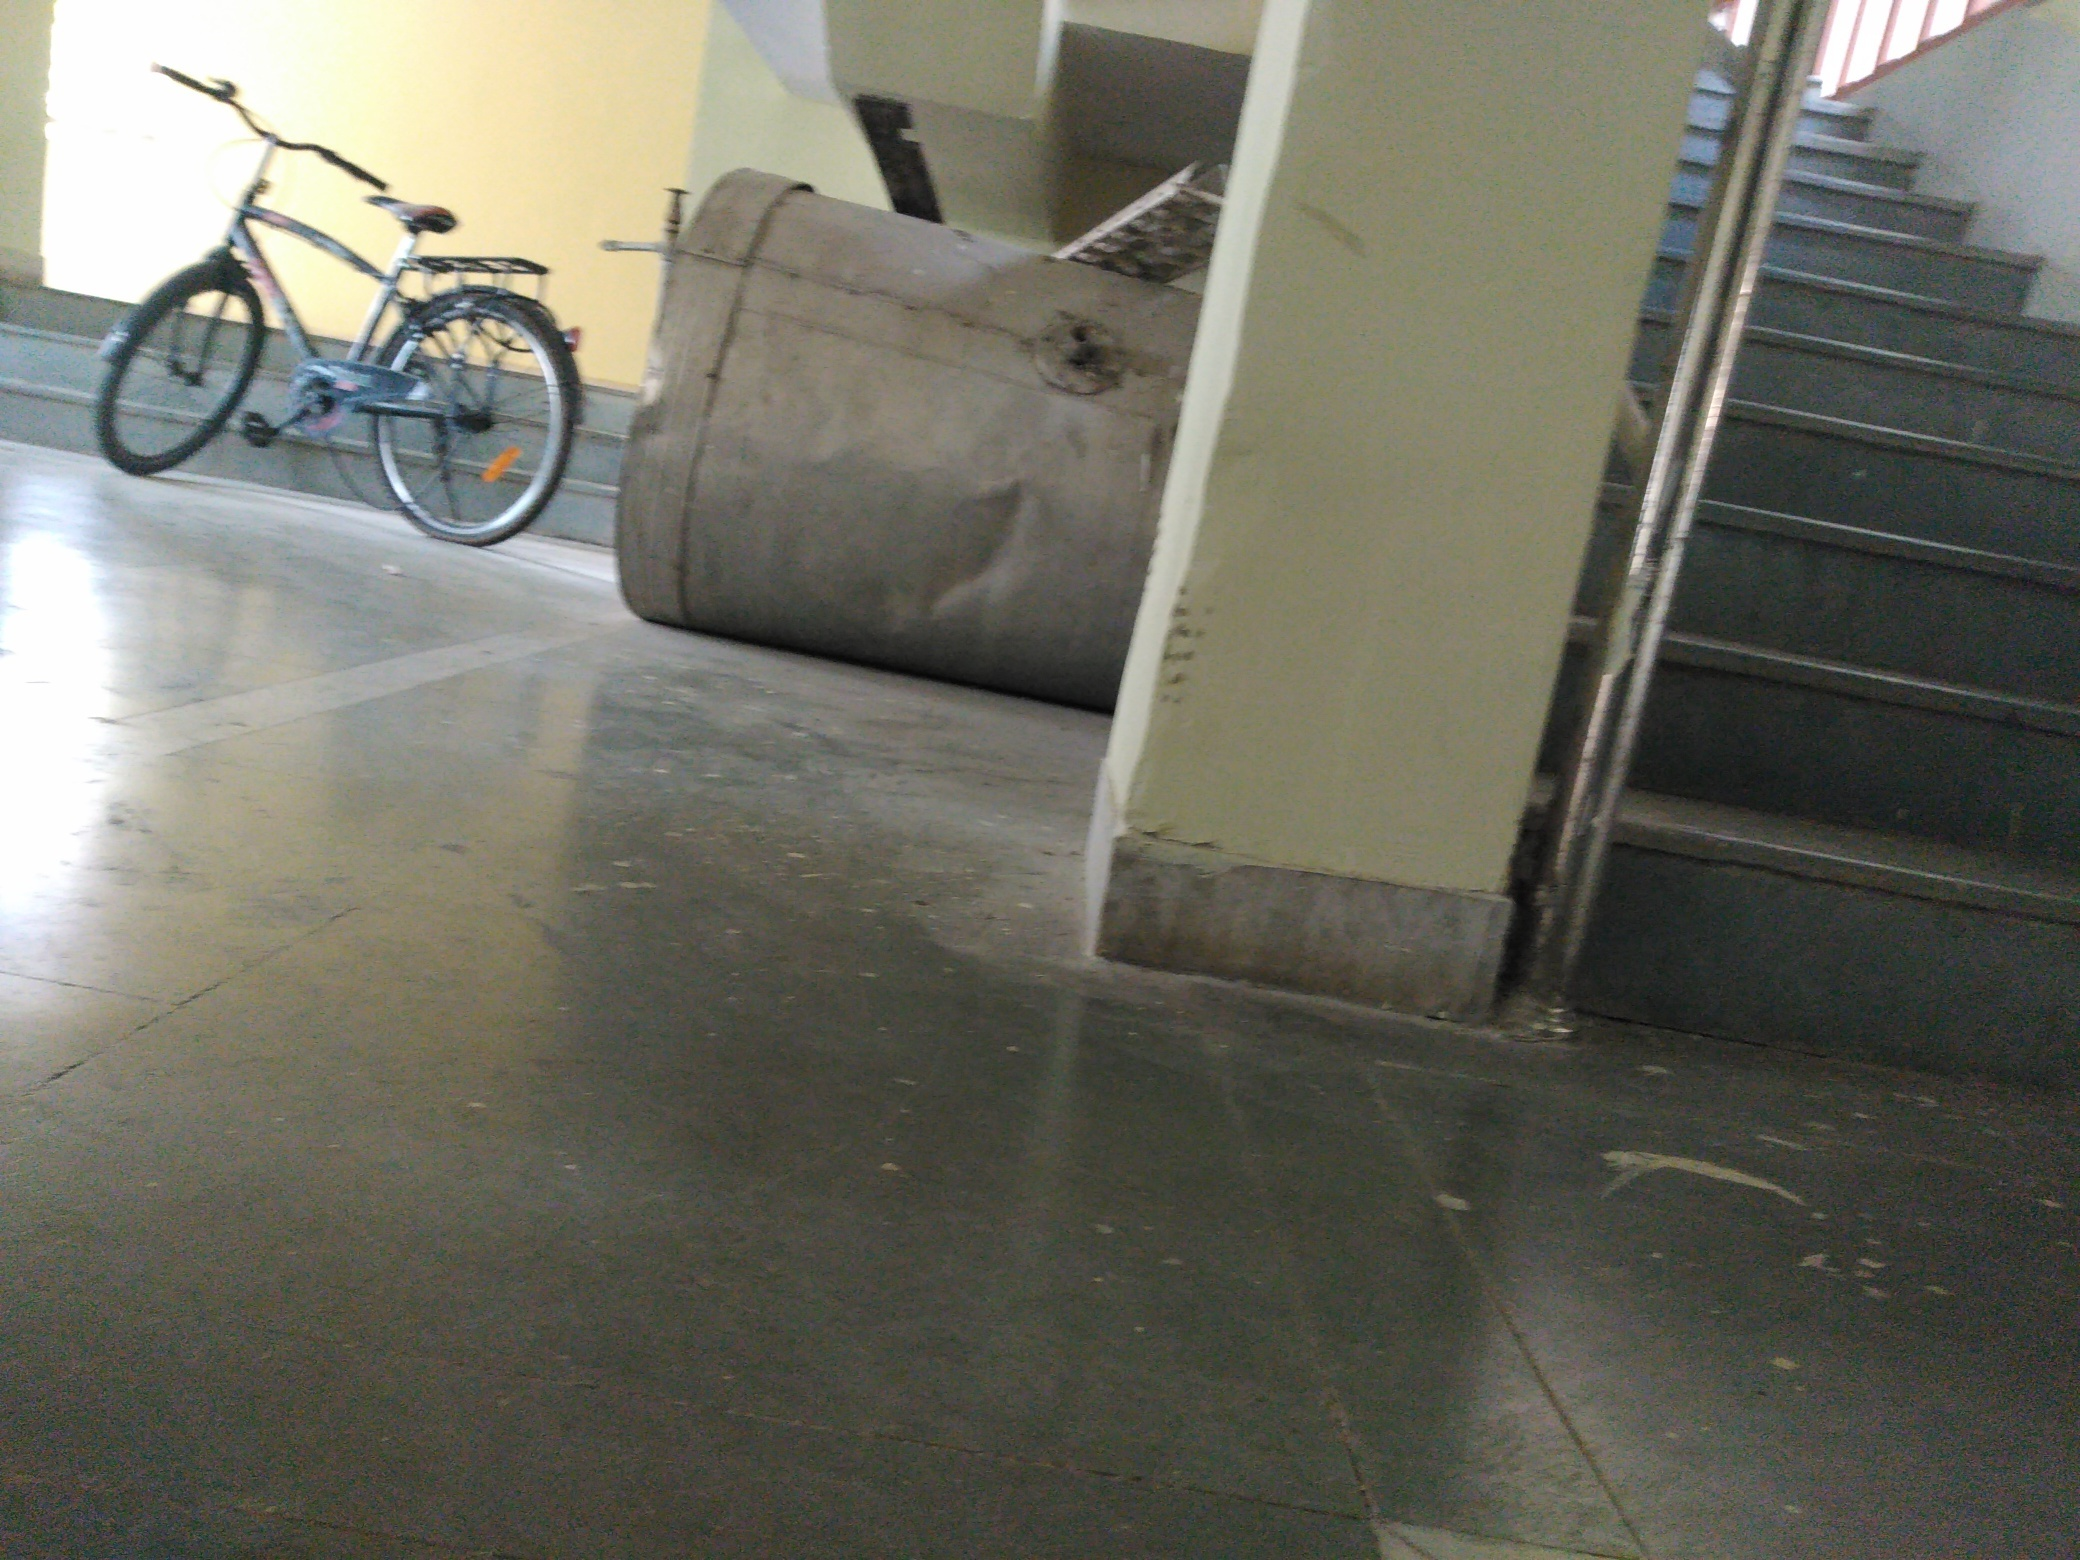stairs_up: (1540, 56, 2080, 1055)
